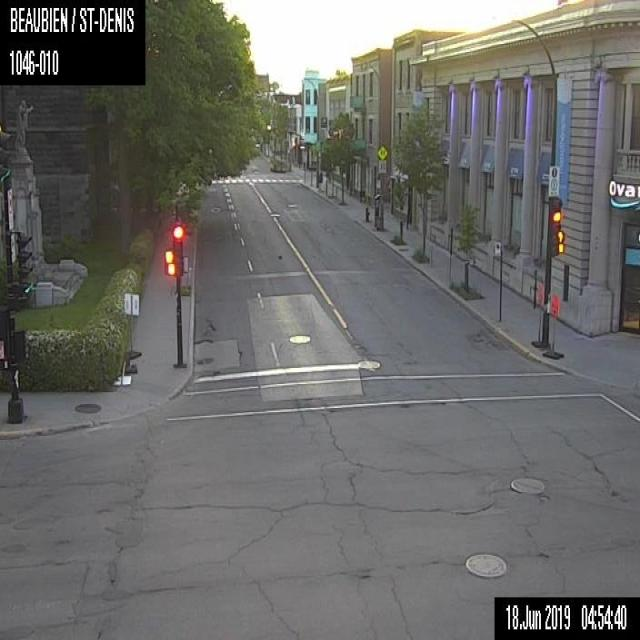construction: (542, 294, 562, 358), (531, 284, 547, 347)
